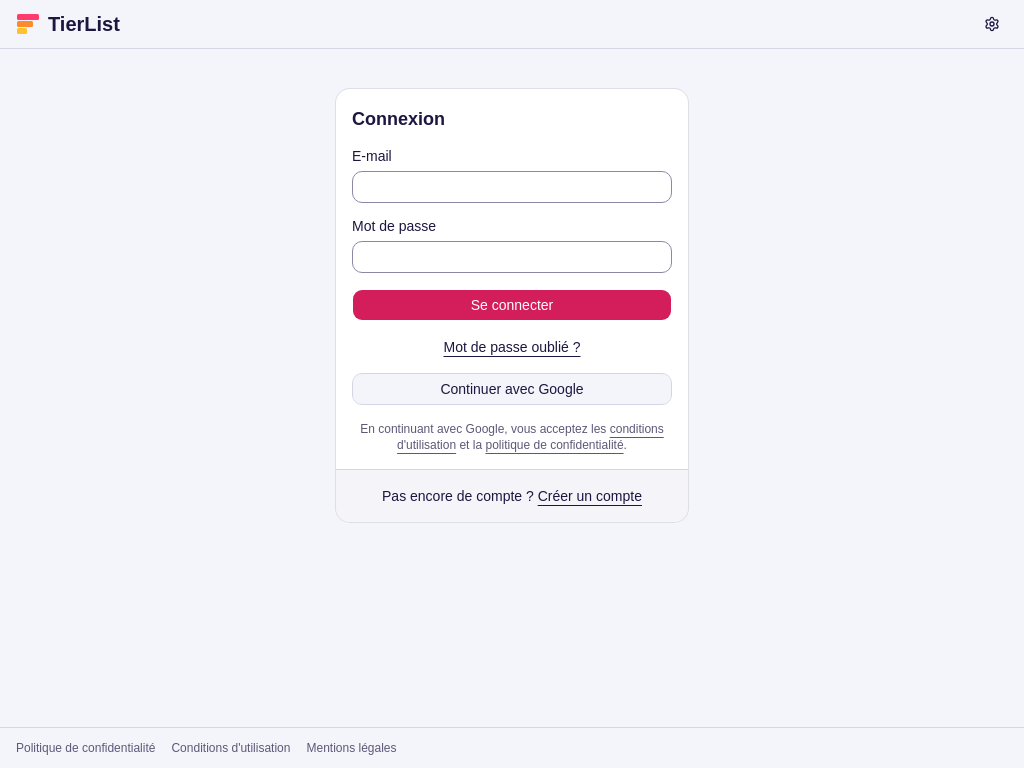
Test: SettingsPanel › links to the legal pages, signed out too
Click the button named "Paramètres".
click(992, 24)  # box [976,8,1008,40]
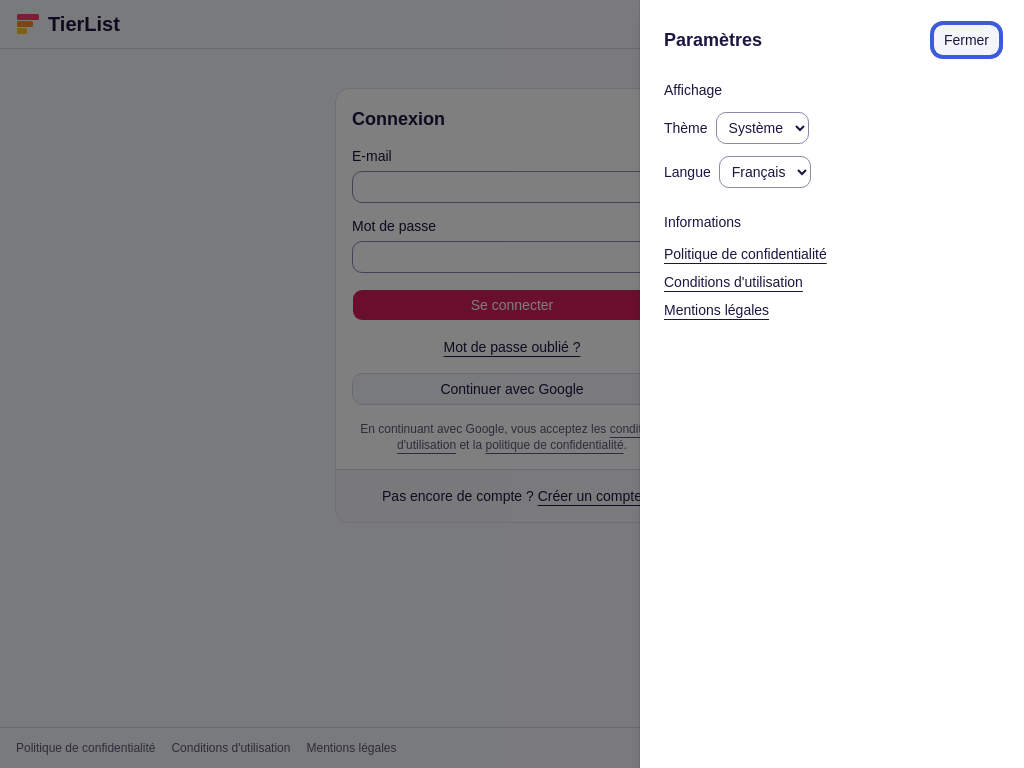
Expected: the heading "Informations" is shown, [664,212,741,232]
